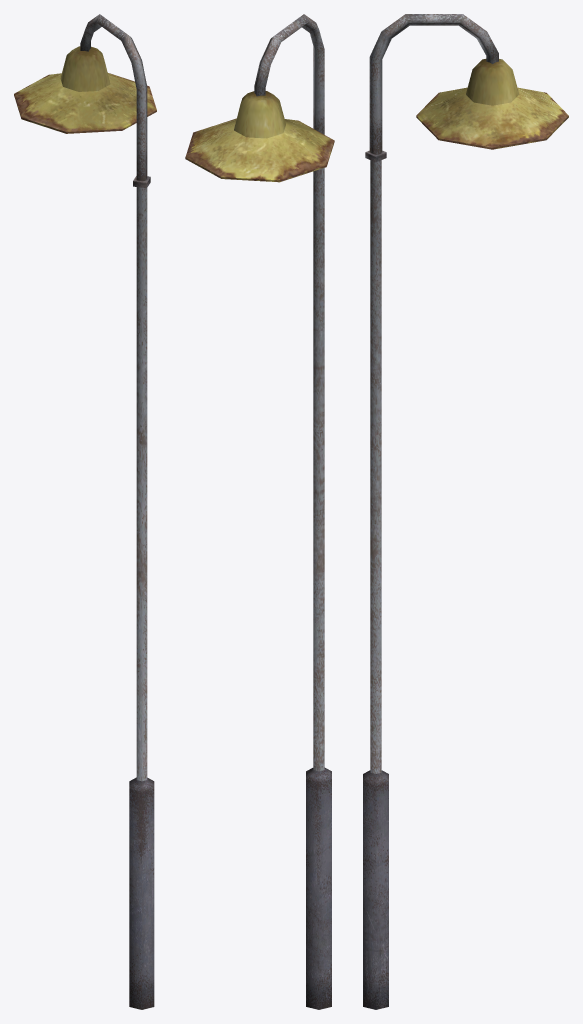
The model's file is SceneModel_light_001.FBX.
3 views of the same model, side by side, from view 1: azimuth 30°, elevation 25°; view 2: azimuth 150°, elevation 25°; view 3: azimuth 270°, elevation 25° (orthographic). The views are drawn at different scales.
Visible parts, largest first — view 1: SceneModel_light_001; view 2: SceneModel_light_001; view 3: SceneModel_light_001.
Boxes of the visible parts, <box> form: SceneModel_light_001: <box>14,14,156,1009</box>; SceneModel_light_001: <box>185,14,334,1009</box>; SceneModel_light_001: <box>363,14,568,1009</box>.
Size of the model in its own units: 56.5 by 404 by 76.17.
